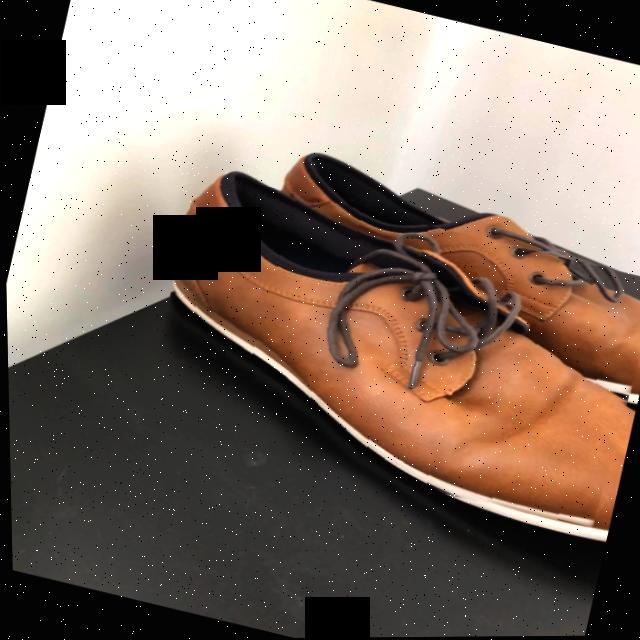shoe: (172, 172, 624, 523)
